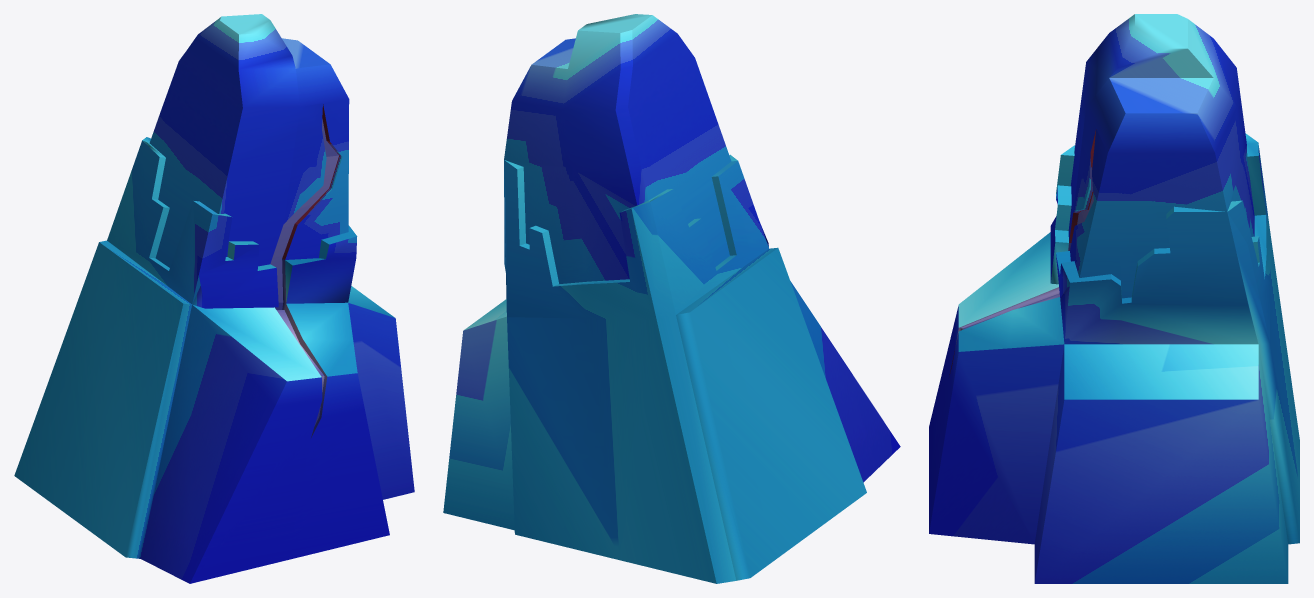
File: rocksTest.fbx
3 views of the same model, side by side, from view 1: azimuth 30°, elevation 25°; view 2: azimuth 150°, elevation 25°; view 3: azimuth 270°, elevation 25° (orthographic). The views are drawn at different scales.
Parts seen in each view (by area): view 1: rockTall; view 2: rockTall; view 3: rockTall.
Part boxes in pixels (<box>): rockTall: <box>14,14,414,583</box>; rockTall: <box>443,14,900,583</box>; rockTall: <box>929,14,1299,583</box>.
Size of the model in its own units: 96.46 by 145 by 97.65.
